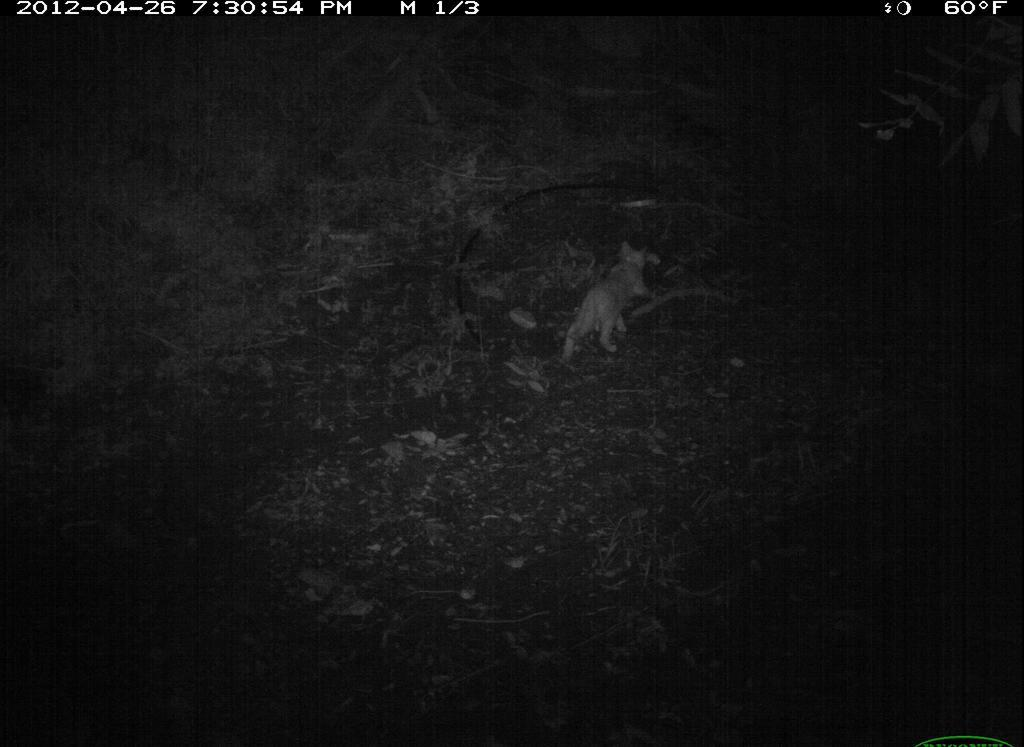cat: (555, 236, 669, 373)
